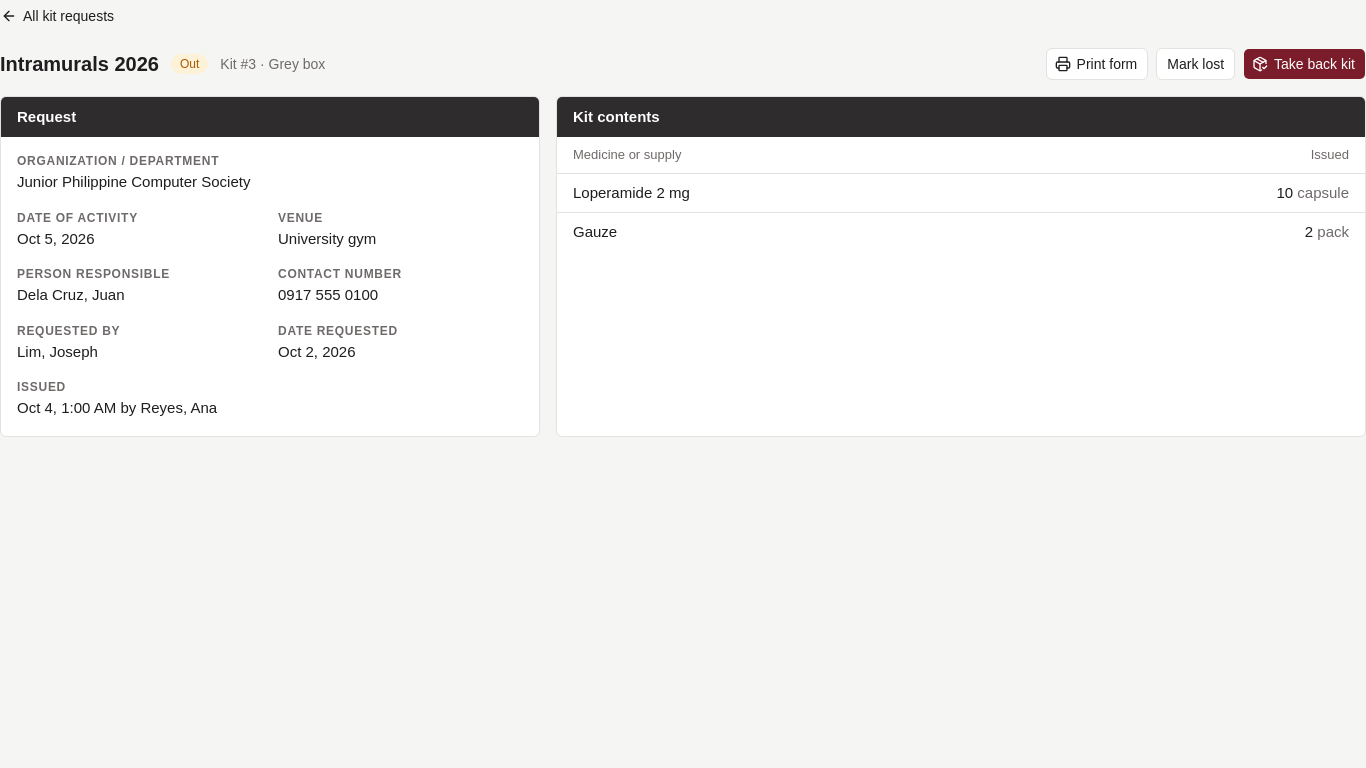
Test: takes a kit back, counting each item, and shows what was used
Expected: the row "Loperamide 2 mg 10 capsule" is shown, [557,173,1365,212]
Click the button "Take back kit". click: coordinates (1305, 64)
box: [1243,48,1365,80]
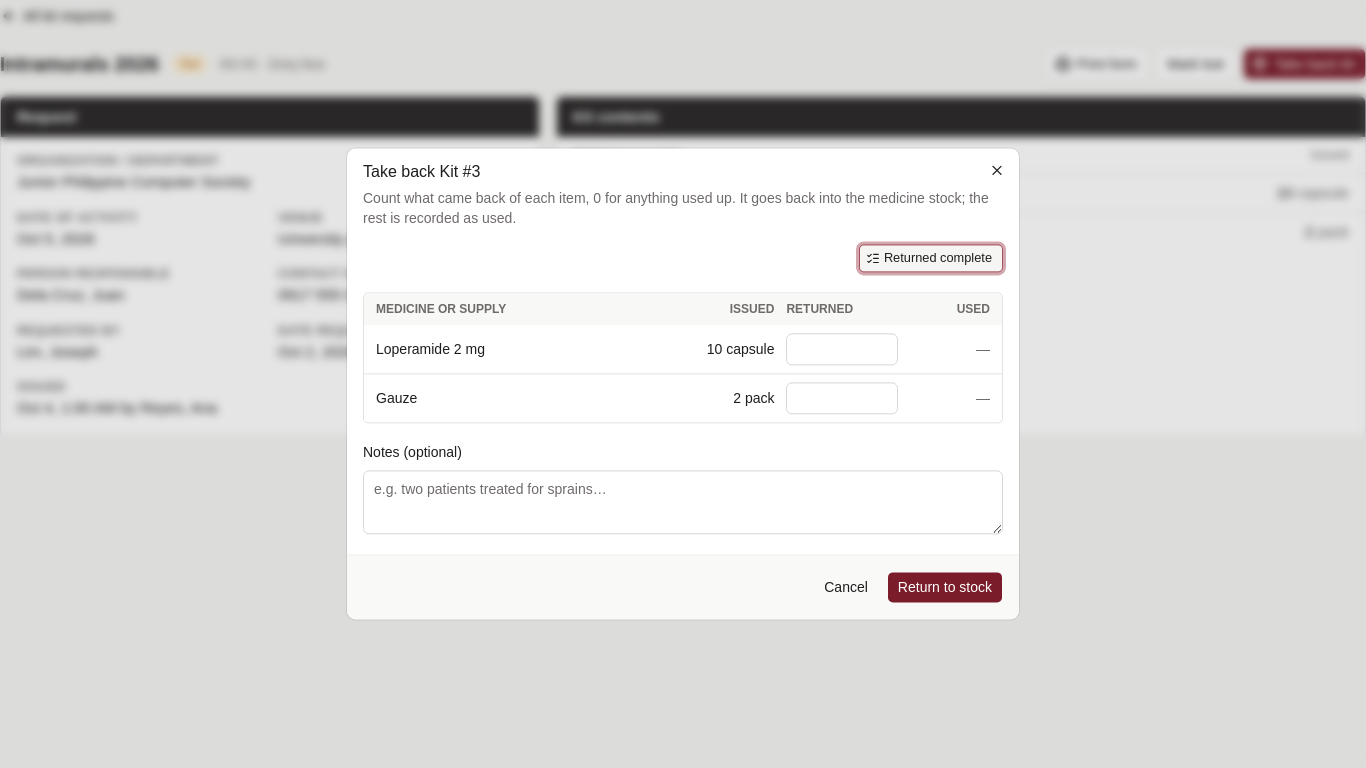
Click the button "Returned complete". click: coordinates (931, 258)
box: [859,244,1003,272]
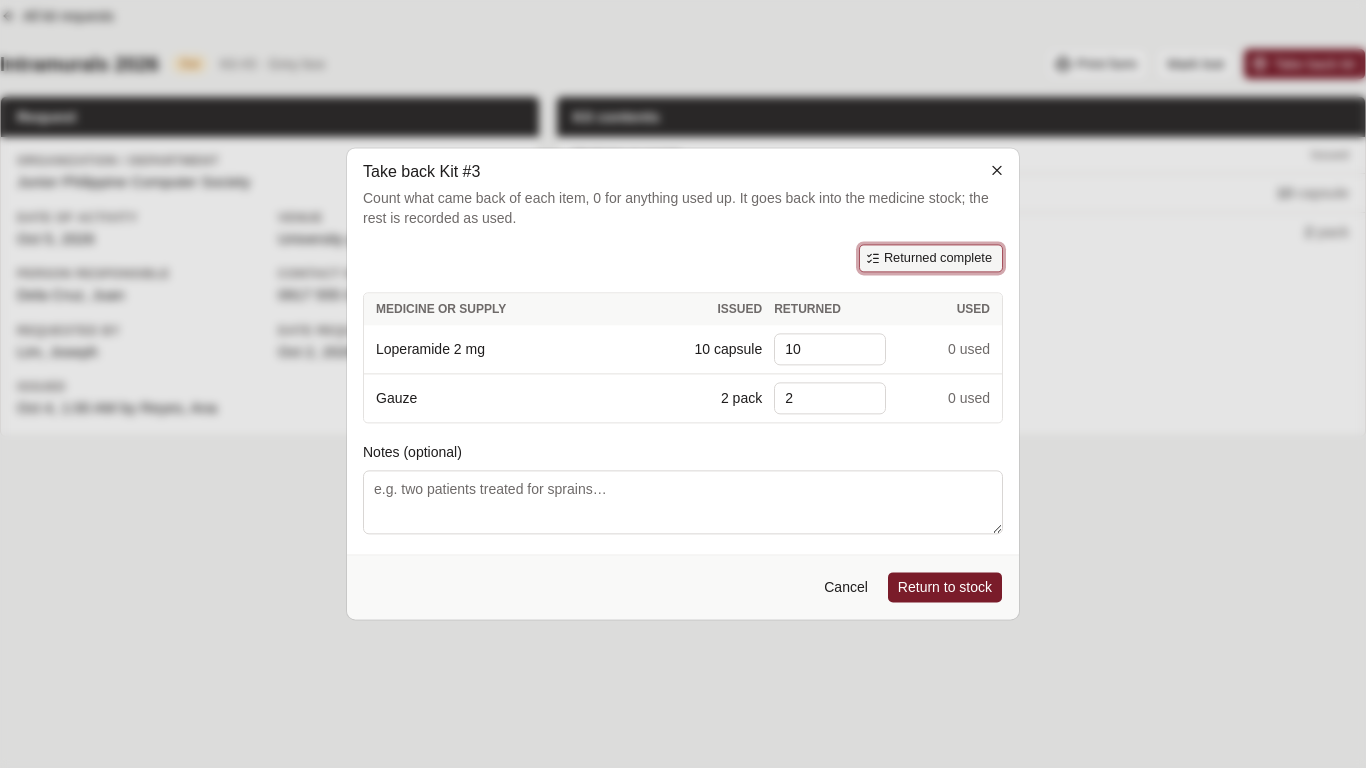
Expected: the field named "Loperamide 2 mg returned" holds "10"
Replace the text in the field named "Loperamide 2 mg returned" with "6". click: coordinates (830, 349)
box: [774,333,886,365]
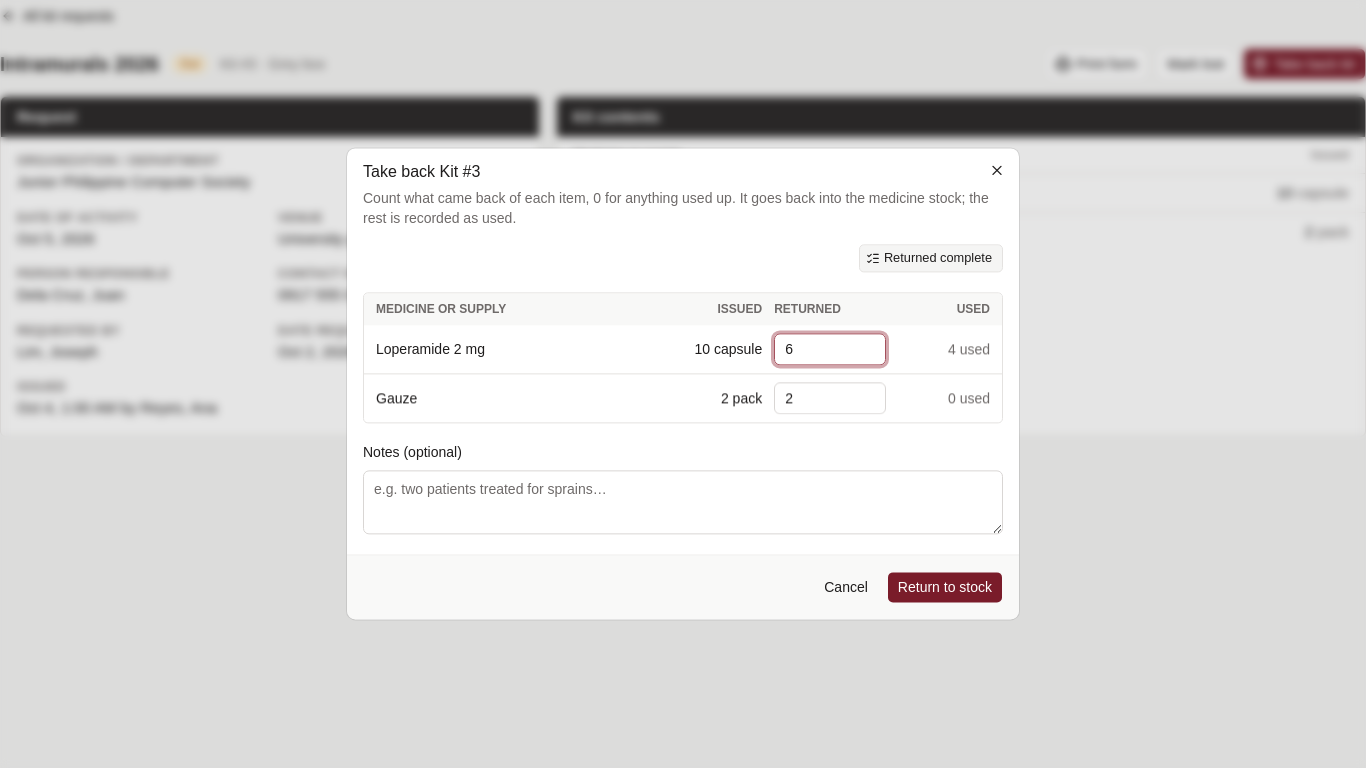
Expected: the text "4 used" is shown, [886,325,1002,374]
Click the button "Return to stock". click: coordinates (945, 588)
box: [887,572,1003,604]
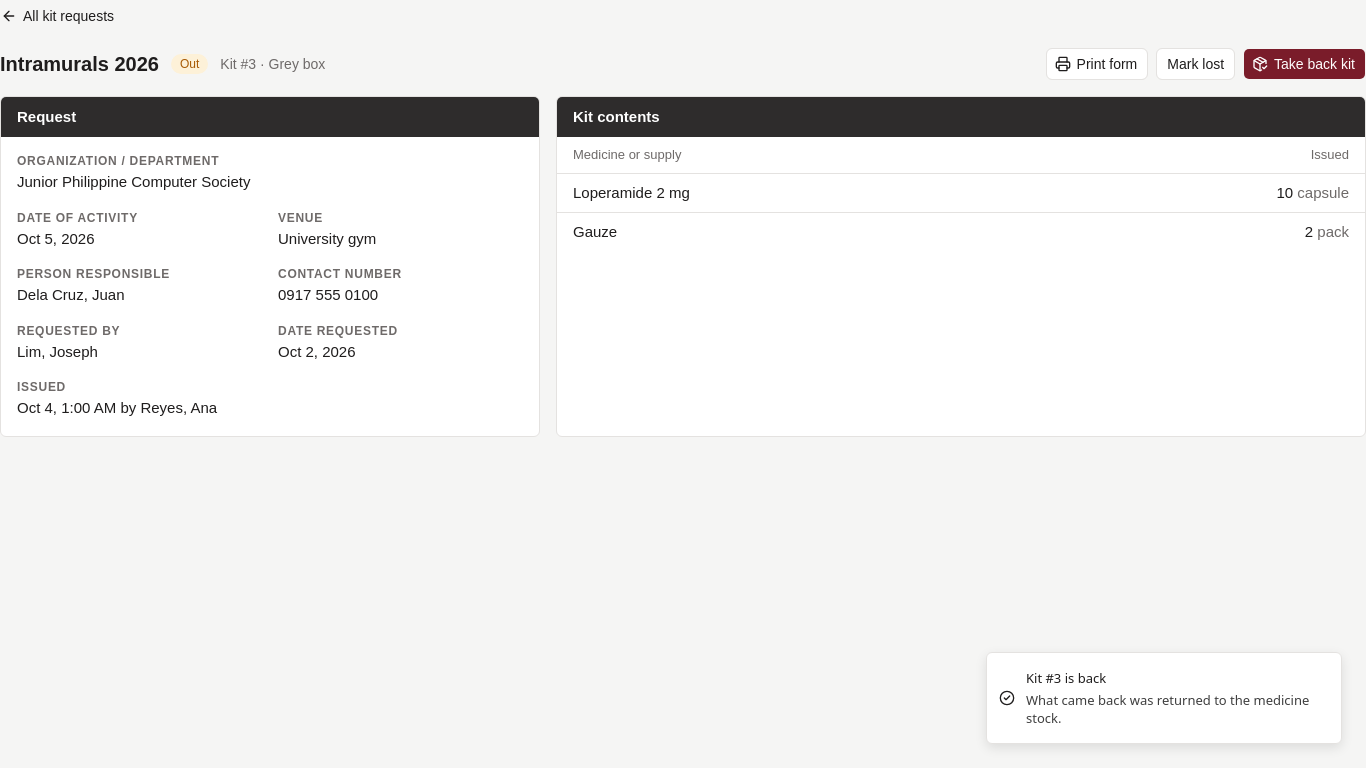
Expected: the text "Kit #3 is back" is shown, [1026,669,1106,687]
